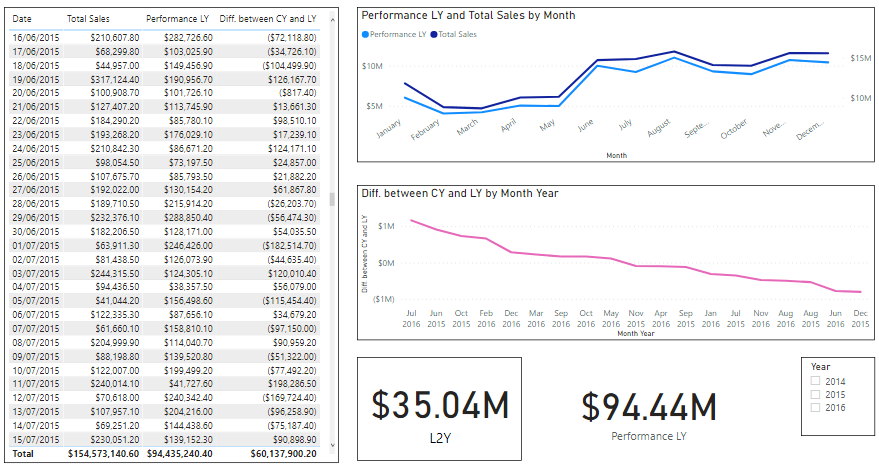

This screenshot's page, from the dashboard's own definition file:
{"tool":"powerbi","page":{"name":"Performance LY","canvas":[1280,720],"ordinal":2},"visuals":[{"type":"tableEx","fields":{"Values":["DateDim.Date","Imp Measures.Total Sales","Time Intelligence Measures.Performance LY","Time Intelligence Measures.Diff. between CY and LY"]},"box":[12.4,51,483.3,657.8],"z":0},{"type":"lineChart","fields":{"Y":["Time Intelligence Measures.Performance LY"],"Y2":["Imp Measures.Total Sales"],"Category":["DateDim.Date.Variation.Date Hierarchy.Year","DateDim.Date.Variation.Date Hierarchy.Quarter","DateDim.Date.Variation.Date Hierarchy.Month","DateDim.Date.Variation.Date Hierarchy.Day"]},"box":[522.3,50.5,747.4,223.6],"z":1000},{"type":"slicer","fields":{"Values":["DateDim.Year"]},"box":[1162.7,555.9,106.5,114.3],"z":2000},{"type":"lineChart","fields":{"Y":["Time Intelligence Measures.Diff. between CY and LY"],"Category":["DateDim.Month Year"]},"box":[522.3,307.3,747.4,223.6],"z":3000},{"type":"card","fields":{"Values":["Time Intelligence Measures.L2Y"]},"box":[521.9,555.9,237.8,149.8],"z":4000},{"type":"card","fields":{"Values":["Time Intelligence Measures.Performance LY"]},"box":[805.1,555.5,277,150.1],"z":4001}]}

Visuals, with their boxes on the page's 1280x720 design canvas (x1, y1, x2, y2). These are canvas units, not pixel positions in the 879x465 screenshot, which may show the page scaled, cropped or inside an application window:
tableEx - DateDim.Date x Imp Measures.Total Sales: BBox(12, 51, 496, 709)
lineChart - Time Intelligence Measures.Performance LY x Imp Measures.Total Sales: BBox(522, 50, 1270, 274)
slicer - DateDim.Year: BBox(1163, 556, 1269, 670)
lineChart - Time Intelligence Measures.Diff. between CY and LY x DateDim.Month Year: BBox(522, 307, 1270, 531)
card - Time Intelligence Measures.L2Y: BBox(522, 556, 760, 706)
card - Time Intelligence Measures.Performance LY: BBox(805, 556, 1082, 706)
